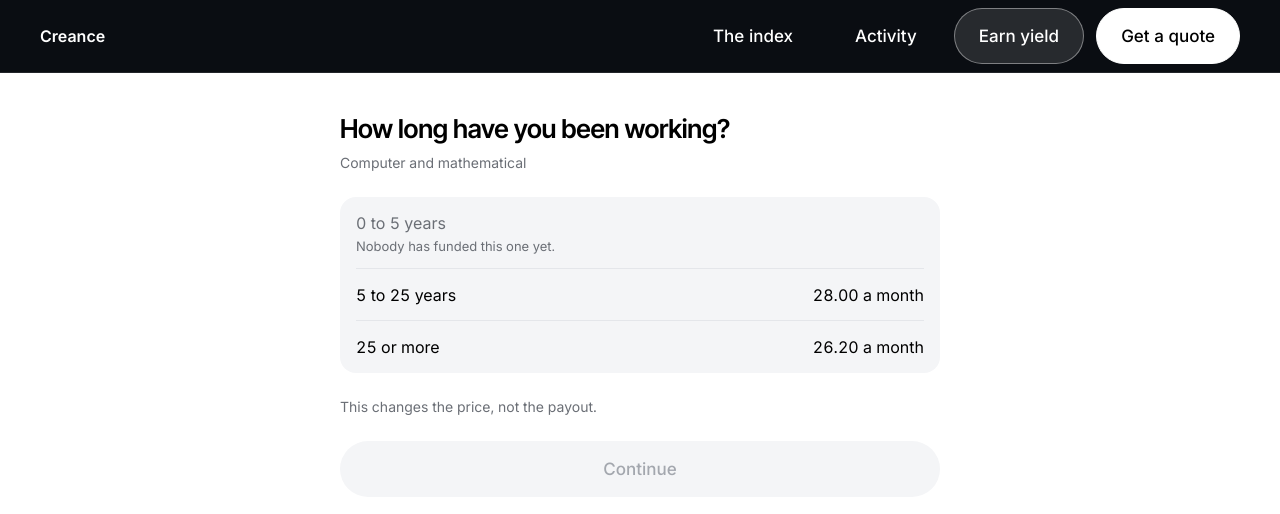
Test case: the experience question › does not let the unfunded band be chosen, and does let the others
The width and height of the screenshot is (1280, 514).
Expected: the button "Continue" is disabled, [340,441,940,497]
Click the button "5 to 25 years 28.00 a month" at (406, 294), box [356,269,924,321]
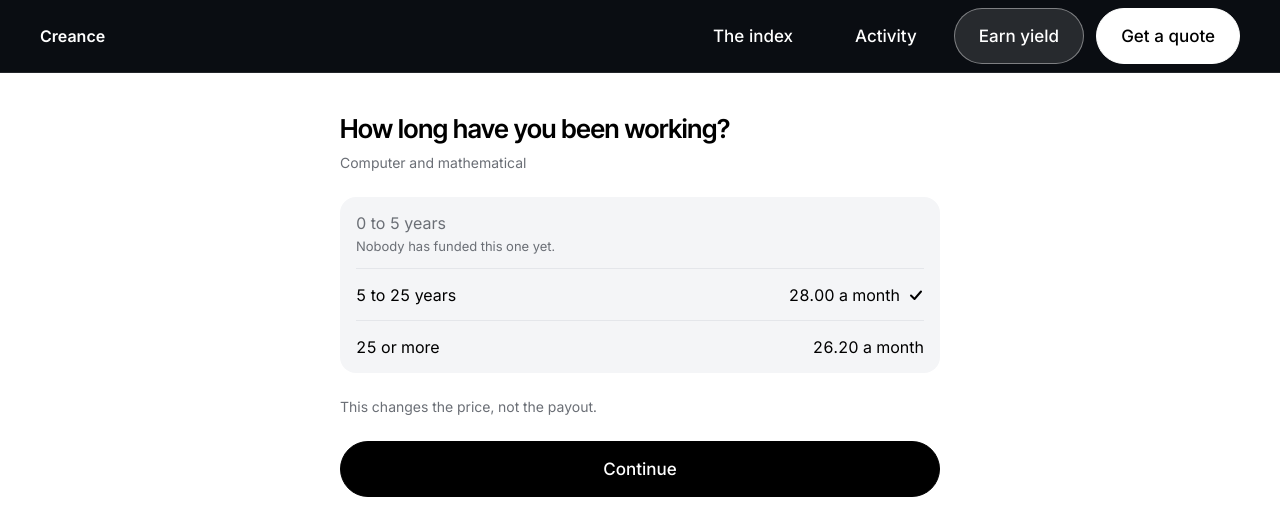
Expected: the button "Continue" is enabled, [340,441,940,497]
